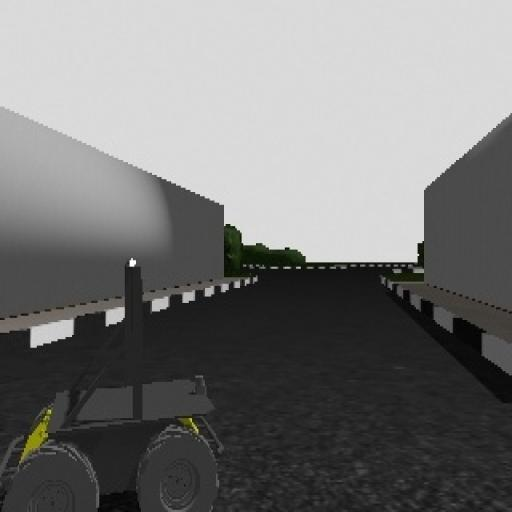huskya200: (0, 241, 238, 512)
